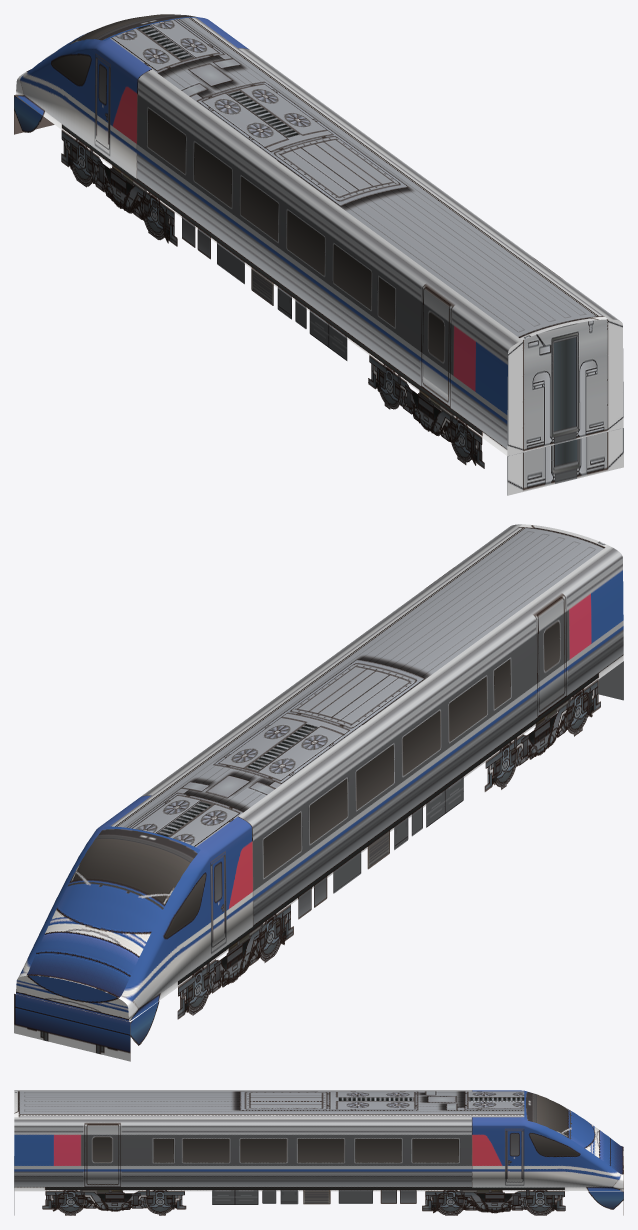
The model's file is car5.glb.
3 renders of one model, top to bottom at view 1: azimuth 30°, elevation 25°; view 2: azimuth 150°, elevation 25°; view 3: azimuth 270°, elevation 25°, orthographic. The views are drawn at different scales.
Parts seen in each view (by area): view 1: tizukyu-hot7000-car5; view 2: tizukyu-hot7000-car5; view 3: tizukyu-hot7000-car5.
Part boxes in pixels (<box>): tizukyu-hot7000-car5: <box>14,14,623,495</box>; tizukyu-hot7000-car5: <box>14,524,623,1061</box>; tizukyu-hot7000-car5: <box>14,1090,623,1215</box>.
Size of the model in its own units: 2.85 by 3.63 by 20.9.
Materials: 8 (7 with a texture image).
